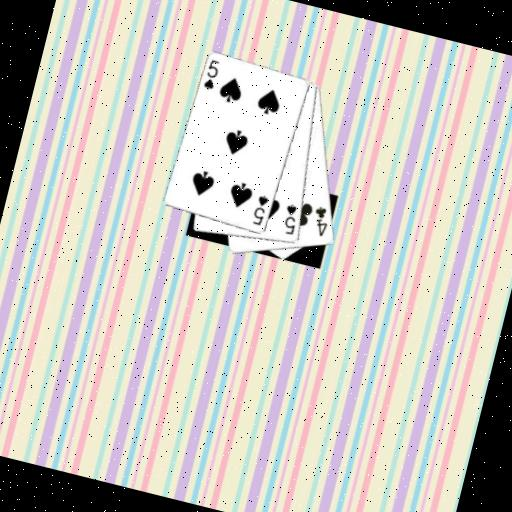4C: (307, 202, 334, 240)
5S: (278, 200, 302, 238), (248, 191, 272, 229), (200, 56, 223, 94)
